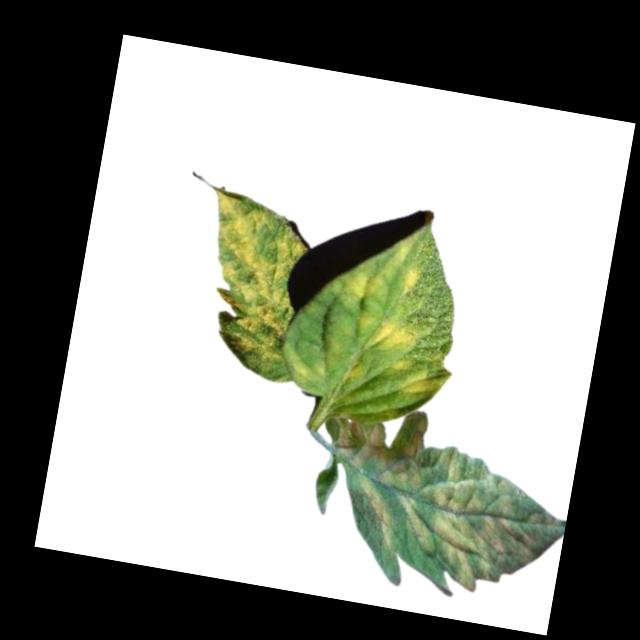Leaf_Mold: (318, 415, 577, 614), (182, 187, 309, 389), (348, 308, 421, 355), (388, 356, 453, 401), (284, 344, 330, 389), (338, 265, 385, 304), (396, 258, 424, 298)
